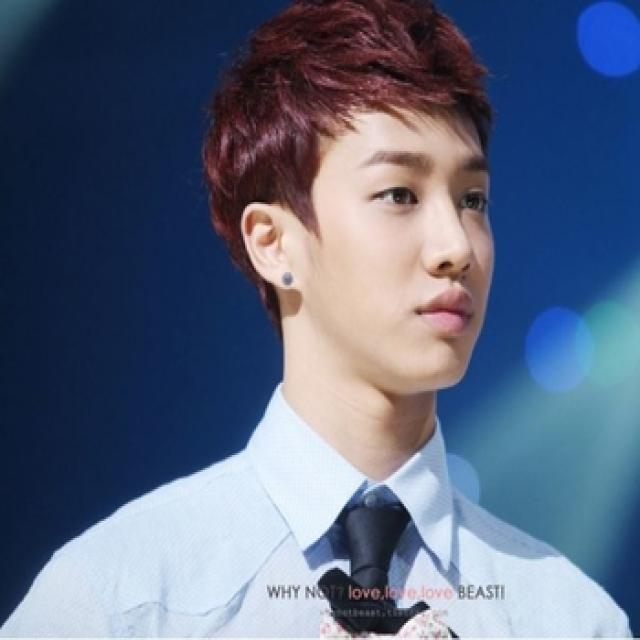human: (24, 6, 640, 640)
